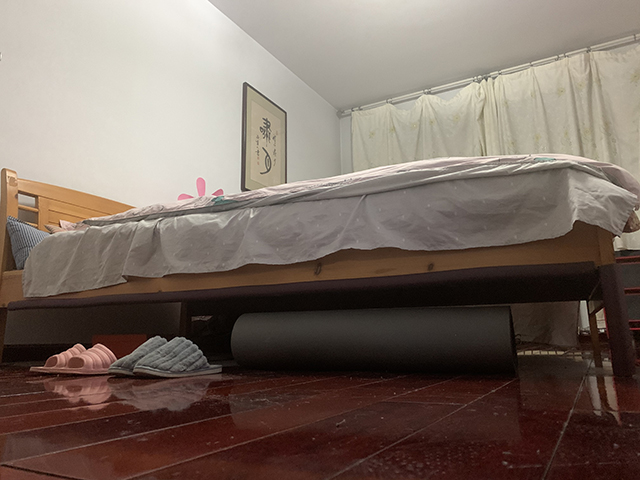bed: (1, 150, 640, 378)
slippers: (133, 337, 223, 379), (28, 341, 117, 375)
